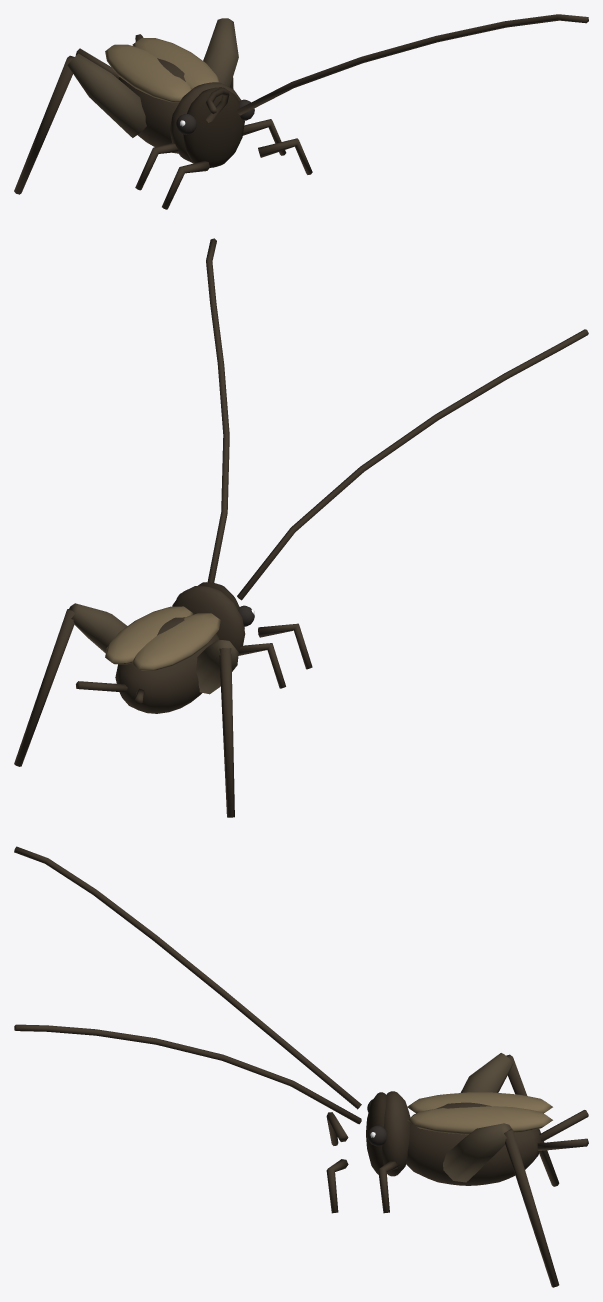
Rendered from bug-bell-cricket.glb.
3 renders of one model, top to bottom at view 1: azimuth 30°, elevation 25°; view 2: azimuth 150°, elevation 25°; view 3: azimuth 270°, elevation 25°, orthographic. The views are drawn at different scales.
Visible parts, largest first — view 1: bug; view 2: bug; view 3: bug.
Boxes of the visible parts, box(x1,y1,x2,y2) form: bug: box(14, 14, 588, 209); bug: box(14, 238, 588, 817); bug: box(14, 846, 588, 1287).
Bounding box in the file's own units: 0.2384 × 0.1849 × 0.3206.
